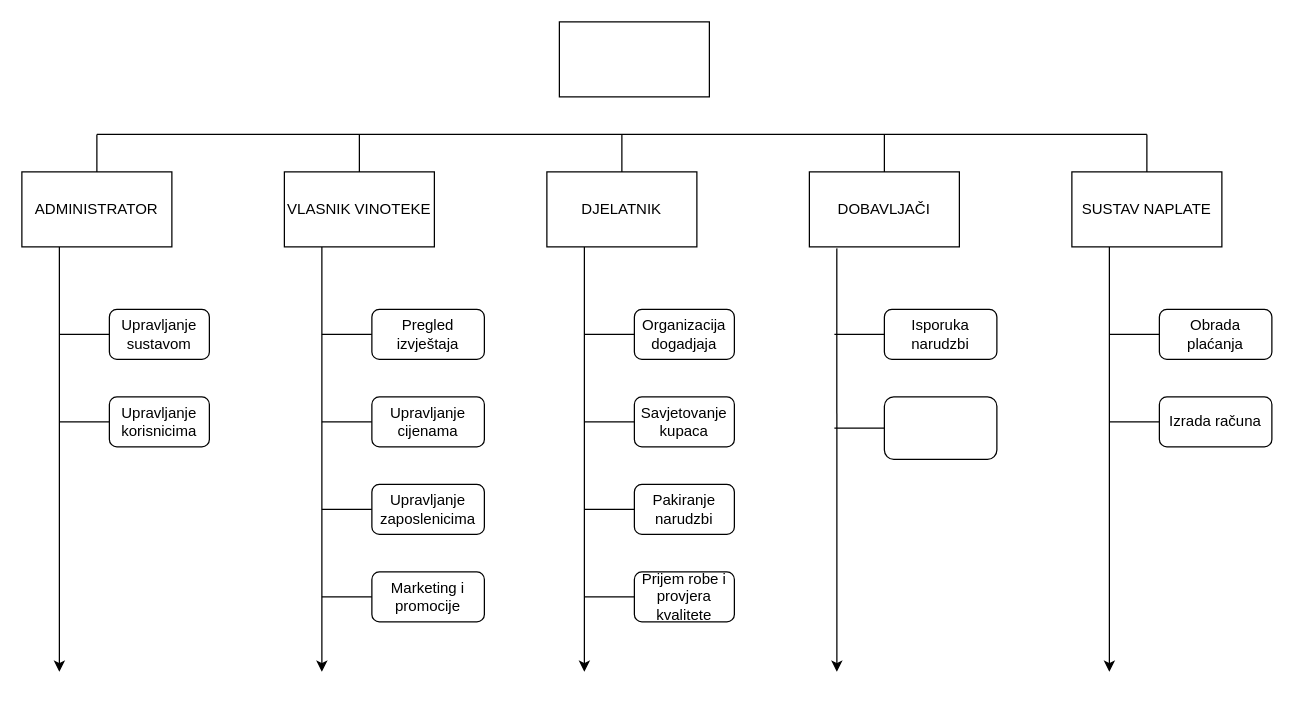
Image size: 1294x704. Some labels were removed from this diagram. Each missing label, with the box of its shape:
Obavještavanje o novim proizvodima: (883, 396, 997, 459)
VINOTEKA: (558, 21, 709, 97)
